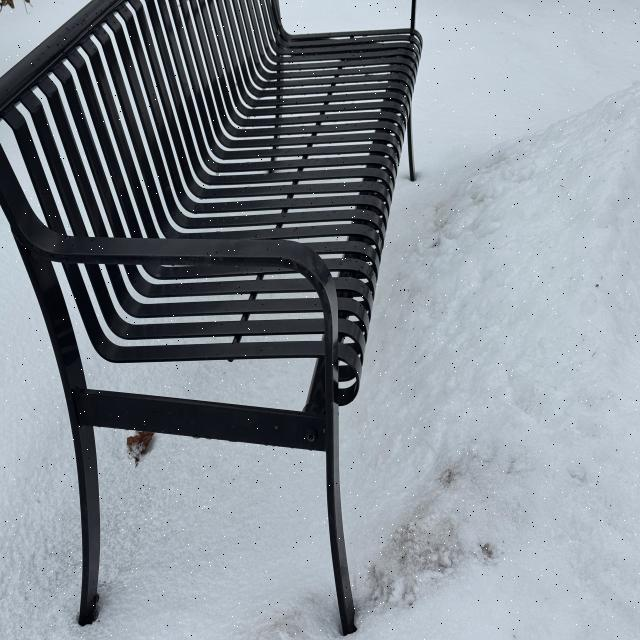Bench: (2, 4, 428, 632)
